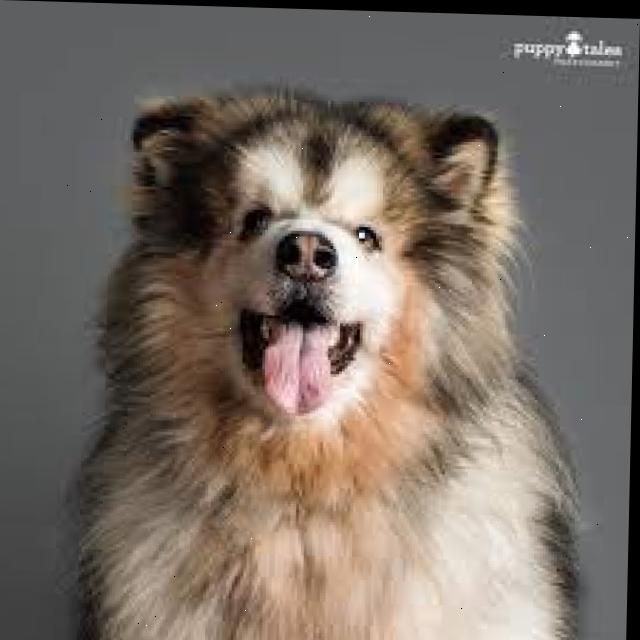ALASKAN_MALAMUTE: (32, 35, 614, 640)
